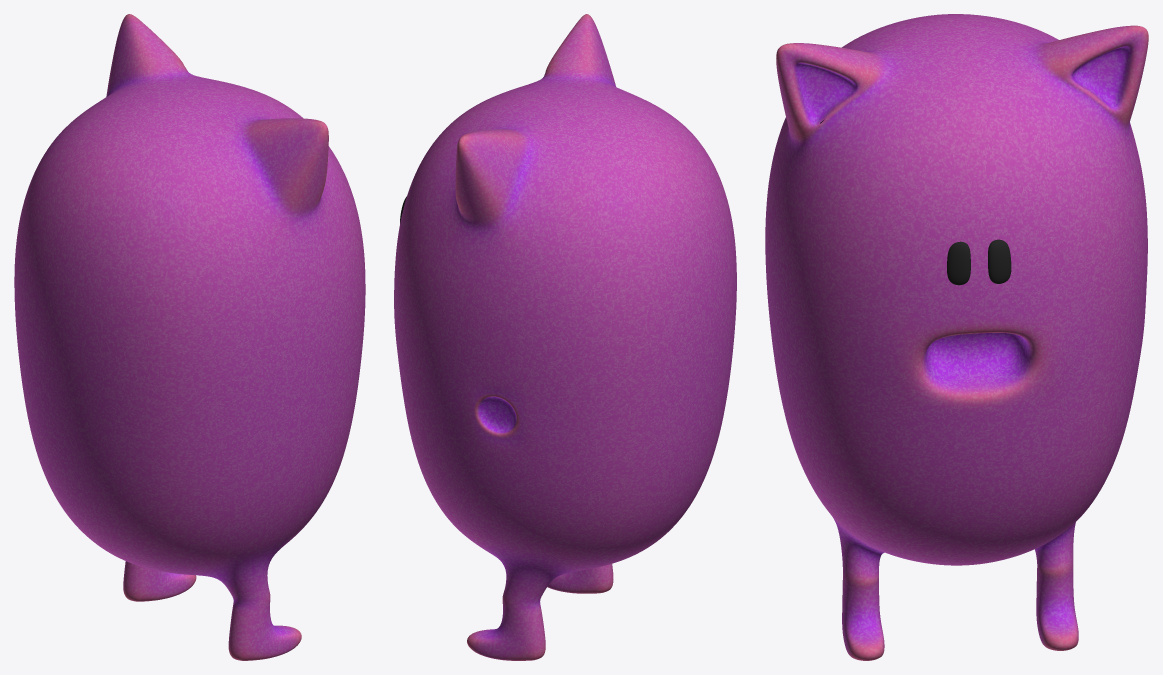
3 views of the same model, side by side, from view 1: azimuth 30°, elevation 25°; view 2: azimuth 150°, elevation 25°; view 3: azimuth 270°, elevation 25° (orthographic). The views are drawn at different scales.
Parts seen in each view (by area): view 1: Cube.035; view 2: Cube.035; view 3: Cube.035.
Boxes of the visible parts, x1,y1,x2,y2 form: Cube.035: (14,14,365,660); Cube.035: (394,14,736,660); Cube.035: (765,14,1148,660).
Bounding box in the file's own units: 3.83 × 6.75 × 3.81.
Materials: 1 (1 with a texture image).
